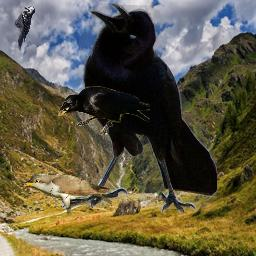Crow: (62, 3, 217, 213), (57, 86, 150, 135)
Cuckoo: (21, 173, 112, 216)
Woodpecker: (14, 4, 35, 51)
